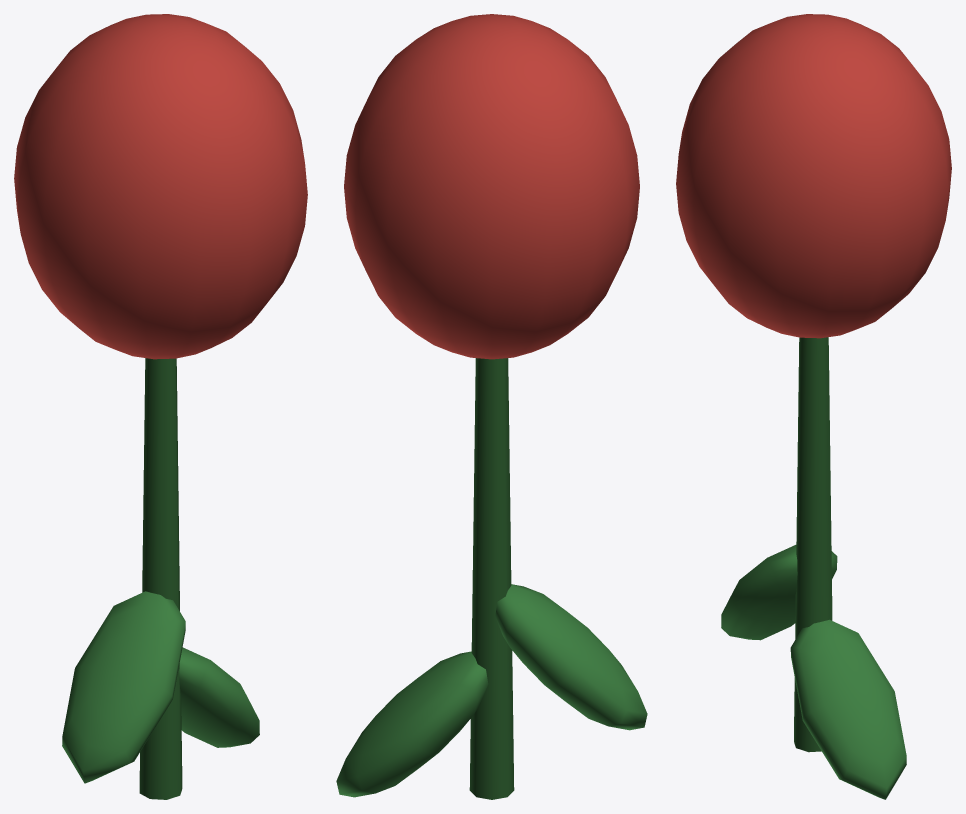
Rendered from tulip.glb.
3 views of the same model, side by side, from view 1: azimuth 30°, elevation 25°; view 2: azimuth 150°, elevation 25°; view 3: azimuth 270°, elevation 25° (orthographic). The views are drawn at different scales.
Bounding box in the file's own units: 0.3966 × 1.15 × 0.3966.
